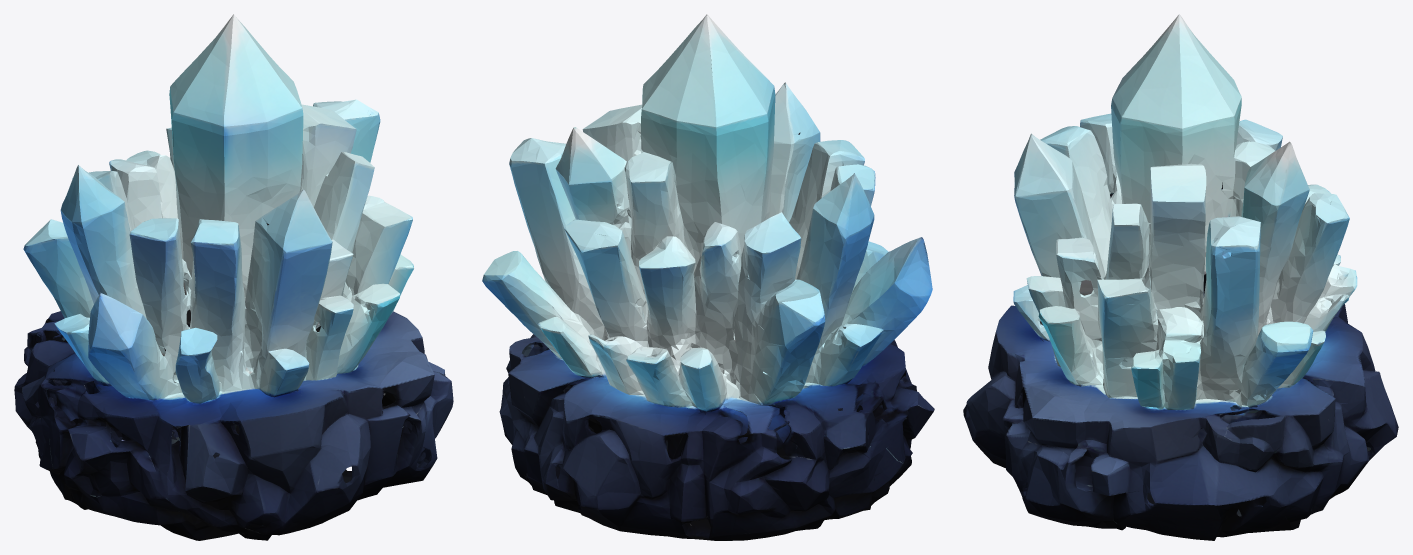
File: cristales.glb
3 renders of one model, left to right at view 1: azimuth 30°, elevation 25°; view 2: azimuth 150°, elevation 25°; view 3: azimuth 270°, elevation 25°, orthographic.
Visible parts, largest first — view 1: world; view 2: world; view 3: world.
Boxes of the visible parts, x1,y1,x2,y2 form: world: [14, 14, 453, 540]; world: [482, 14, 934, 540]; world: [963, 14, 1398, 540].
Size of the model in its own units: 0.8246 by 0.9939 by 0.8223.
1 material, 1 textured.
